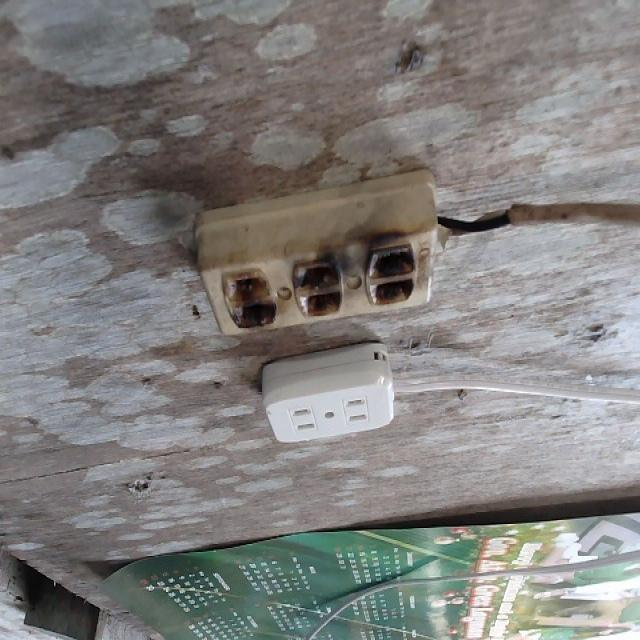-: (217, 233, 419, 332)
